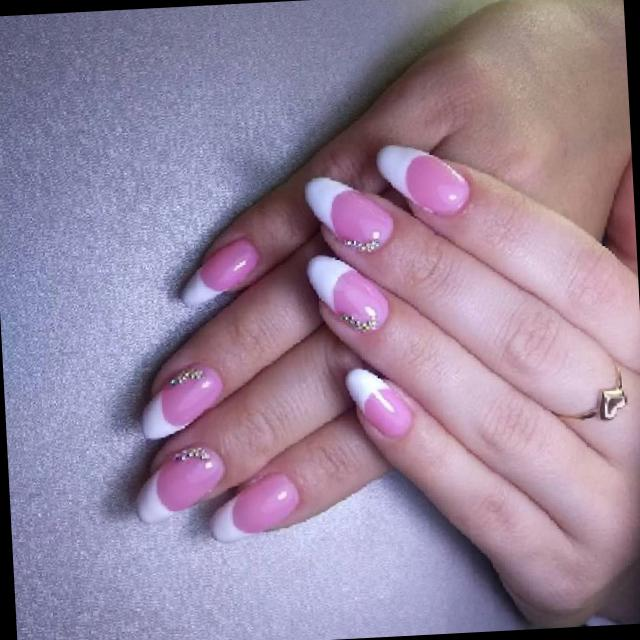Nail: (375, 145, 469, 216), (137, 447, 224, 523), (304, 177, 393, 251), (306, 256, 388, 332), (210, 473, 298, 542), (141, 365, 222, 439), (181, 239, 258, 306), (345, 368, 411, 438)
